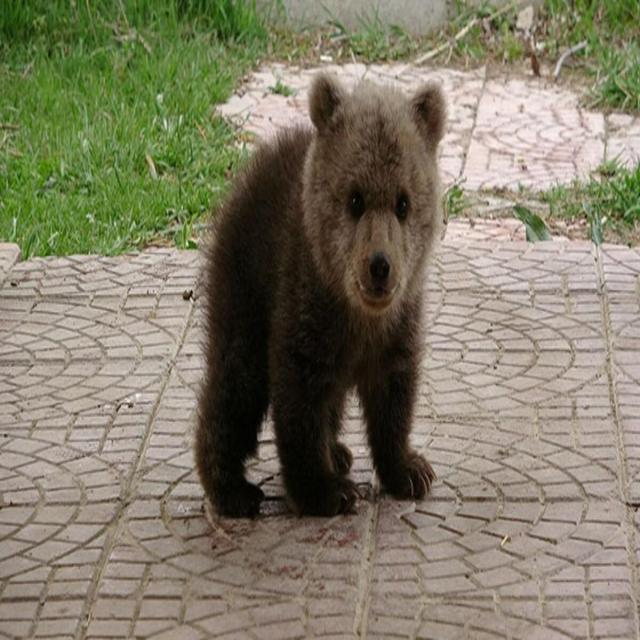Bear: (192, 69, 449, 531)
